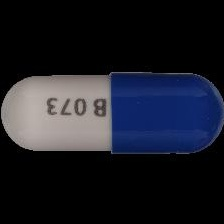68258-2012: (0, 0, 224, 224)
